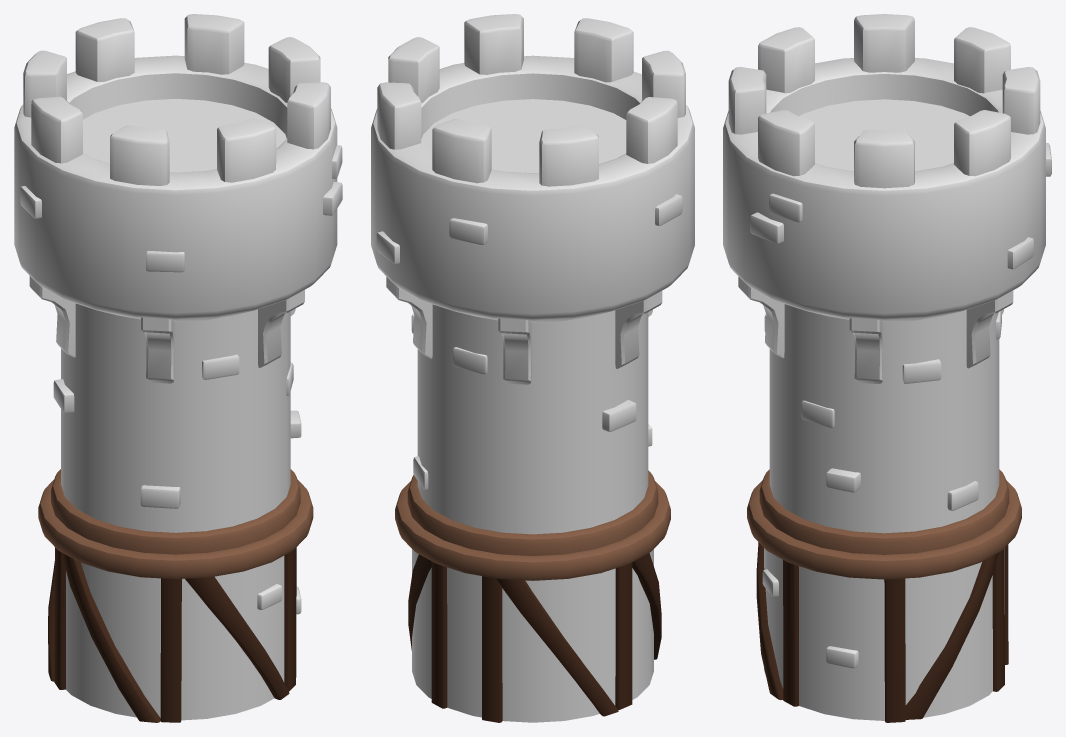
File: Tower_1.fbx
3 renders of one model, left to right at view 1: azimuth 30°, elevation 25°; view 2: azimuth 150°, elevation 25°; view 3: azimuth 270°, elevation 25°, orthographic.
Parts seen in each view (by area): view 1: Tower_1; view 2: Tower_1; view 3: Tower_1.
Part boxes in pixels (box(x1,y1,x2,y2)): Tower_1: box(14, 14, 342, 722); Tower_1: box(371, 14, 694, 722); Tower_1: box(723, 14, 1051, 722).
Size of the model in its own units: 220 by 437 by 220.
